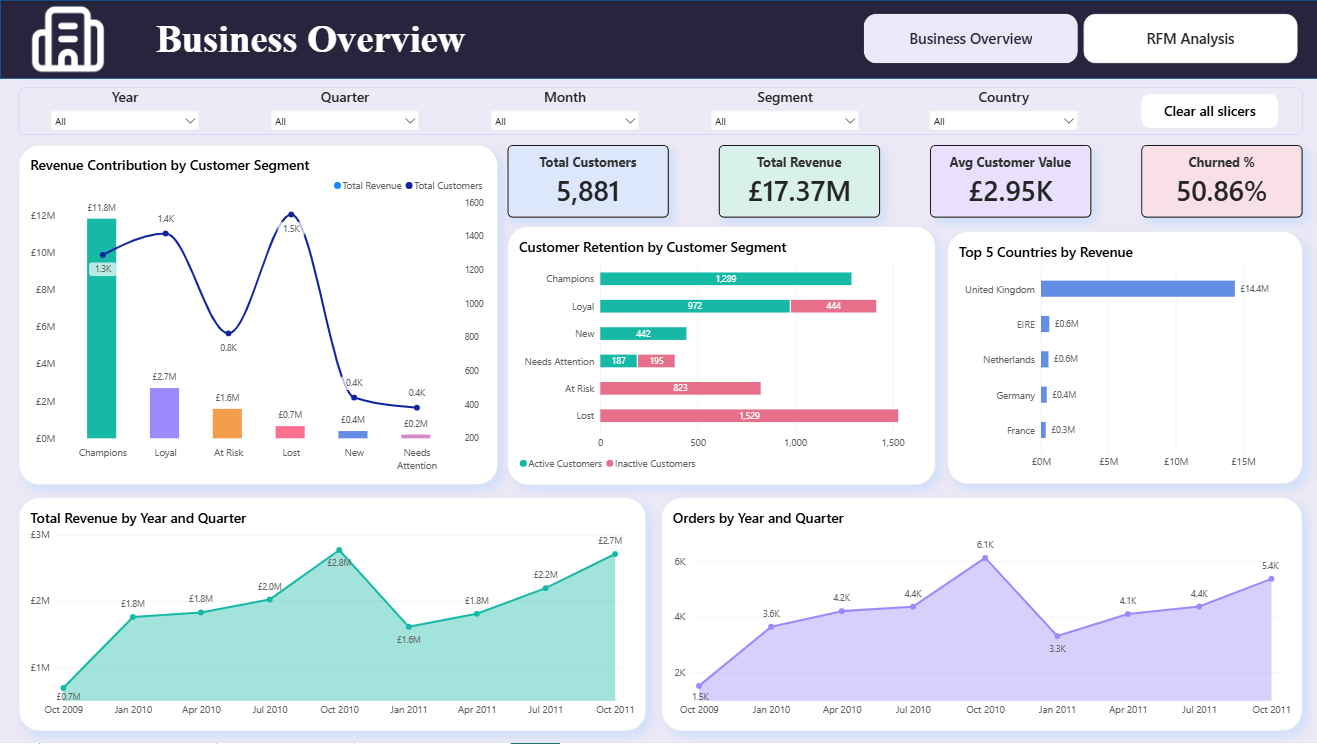

Layout of this report page (visuals, bound fields, positions):
{"tool":"powerbi","page":{"name":"Business Overview","canvas":[1920,1080],"ordinal":0},"visuals":[{"type":"shape","box":[27.2,127.1,1864.8,69],"z":0},{"type":"shape","box":[0,0,1919.2,114.4],"z":1000},{"type":"cardVisual","fields":{"Data":["Project_measures.Total Customers"]},"box":[737.2,210.6,234.2,105.3],"z":2000},{"type":"cardVisual","fields":{"Data":["Project_measures.Total Revenue"]},"box":[1044.1,210.6,234.2,105.3],"z":3000},{"type":"cardVisual","fields":{"Data":["Project_measures.Avg Customer Value"]},"box":[1350.9,210.6,234.2,105.3],"z":4000},{"type":"cardVisual","fields":{"Data":["Project_measures.Churned %"]},"box":[1657.8,210.6,234.2,105.3],"z":5000},{"type":"barChart","title":"Customer Retention by Customer Segment","fields":{"Category":["RetailRFMTransactions.Segment"],"Y":["Project_measures.Active Customers","Project_measures.Inactive Customers"]},"box":[737.3,328.2,621.8,376.1],"z":6000},{"type":"barChart","title":"Top 5 Countries by Revenue","fields":{"Y":["Project_measures.Total Revenue"],"Category":["RetailRFMTransactions.Country"]},"box":[1375.5,336.7,516.3,367.3],"z":7000},{"type":"lineChart","fields":{"Category":["Dim_Date.Date.Variation.Date Hierarchy.Year","Dim_Date.Date.Variation.Date Hierarchy.Quarter","Dim_Date.Date.Variation.Date Hierarchy.Month"],"Y":["Project_measures.Total Revenue"]},"box":[27.2,722.7,911.5,339.5],"z":8000},{"type":"areaChart","fields":{"Category":["Dim_Date.Date.Variation.Date Hierarchy.Year","Dim_Date.Date.Variation.Date Hierarchy.Quarter","Dim_Date.Date.Variation.Date Hierarchy.Month"],"Y":["Project_measures.Orders"]},"box":[960.5,722.7,931.5,339.5],"z":9000},{"type":"textbox","box":[165.2,25.4,572,89],"z":10000},{"type":"slicer","title":"Year","fields":{"Values":["Dim_Date.Date.Variation.Date Hierarchy.Year"]},"box":[69.3,127.7,225.1,69.3],"z":11000},{"type":"slicer","title":"Quarter","fields":{"Values":["Dim_Date.Date.Variation.Date Hierarchy.Quarter"]},"box":[388.5,127.7,225.1,69.3],"z":12000},{"type":"slicer","title":"Month","fields":{"Values":["Dim_Date.Date.Variation.Date Hierarchy.Quarter"]},"box":[707.7,127.7,225.1,69.3],"z":13000},{"type":"slicer","title":"Segment","fields":{"Values":["RetailRFMTransactions.Segment"]},"box":[1026.9,127.7,225.1,69.3],"z":14000},{"type":"slicer","title":"Country","fields":{"Values":["RetailRFMTransactions.Country"]},"box":[1346.1,127.7,225.1,69.3],"z":15000},{"type":"actionButton","box":[1657.7,136.3,199.1,49.8],"z":16000},{"type":"image","box":[16.5,0,164.9,113.8],"z":17000},{"type":"lineStackedColumnComboChart","title":"Revenue Contribution by Customer Segment","fields":{"Category":["RetailRFMTransactions.Segment"],"Y":["Project_measures.Total Revenue"],"Y2":["Project_measures.Total Customers"]},"box":[26.5,210.2,695.9,493.9],"z":18000},{"type":"pageNavigator","box":[1254.7,20,631.9,72.6],"z":18001}]}

Visuals, with their boxes in screenshot pixels (x1, y1, x2, y2), scaled from the page's 1920x1080 canvas onto the 1317x744 screenshot:
shape: box(19, 88, 1298, 135)
shape: box(0, 0, 1316, 79)
cardVisual - Project_measures.Total Customers: box(506, 145, 666, 218)
cardVisual - Project_measures.Total Revenue: box(716, 145, 877, 218)
cardVisual - Project_measures.Avg Customer Value: box(927, 145, 1087, 218)
cardVisual - Project_measures.Churned %: box(1137, 145, 1298, 218)
"Customer Retention by Customer Segment" barChart: box(506, 226, 932, 485)
"Top 5 Countries by Revenue" barChart: box(944, 232, 1298, 485)
lineChart - Dim_Date.Date.Variation.Date Hierarchy.Year x Dim_Date.Date.Variation.Date Hierarchy.Quarter: box(19, 498, 644, 732)
areaChart - Dim_Date.Date.Variation.Date Hierarchy.Year x Dim_Date.Date.Variation.Date Hierarchy.Quarter: box(659, 498, 1298, 732)
textbox: box(113, 17, 506, 79)
"Year" slicer: box(48, 88, 202, 136)
"Quarter" slicer: box(266, 88, 421, 136)
"Month" slicer: box(485, 88, 640, 136)
"Segment" slicer: box(704, 88, 859, 136)
"Country" slicer: box(923, 88, 1078, 136)
actionButton: box(1137, 94, 1274, 128)
image: box(11, 0, 124, 78)
"Revenue Contribution by Customer Segment" lineStackedColumnComboChart: box(18, 145, 496, 485)
pageNavigator: box(861, 14, 1294, 64)
